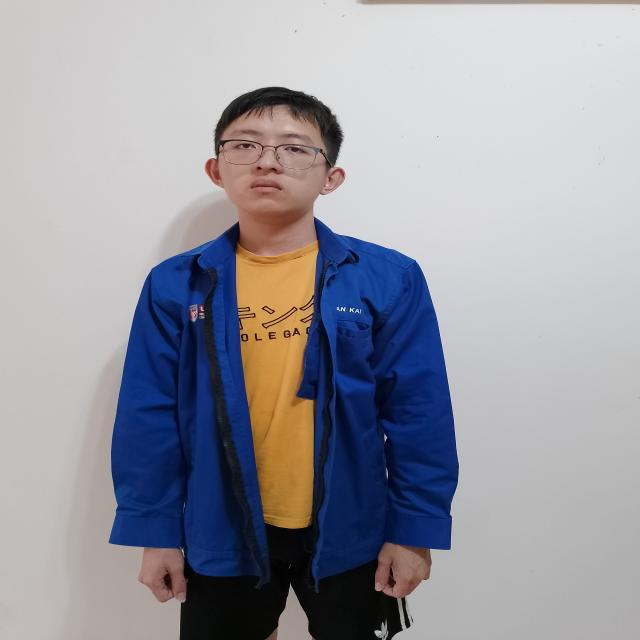person_with_labcoat: (111, 87, 457, 640)
